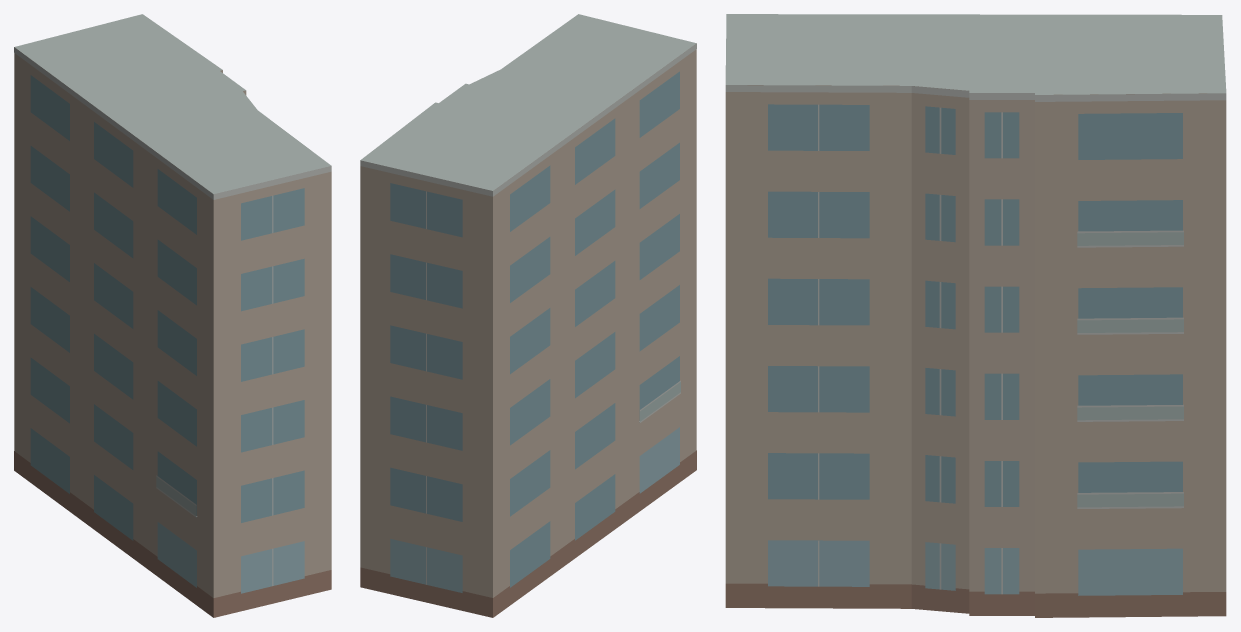
The model's file is survey-upis-32556054.glb.
3 views of the same model, side by side, from view 1: azimuth 30°, elevation 25°; view 2: azimuth 150°, elevation 25°; view 3: azimuth 270°, elevation 25° (orthographic). The views are drawn at different scales.
Visible parts, largest first — view 1: survey-upis-32556054.tmp; view 2: survey-upis-32556054.tmp; view 3: survey-upis-32556054.tmp.
Part boxes in pixels (<box>): survey-upis-32556054.tmp: <box>14,14,331,617</box>; survey-upis-32556054.tmp: <box>360,14,696,617</box>; survey-upis-32556054.tmp: <box>725,14,1226,617</box>.
Size of the model in its own units: 6.05 by 18.1 by 15.72.
